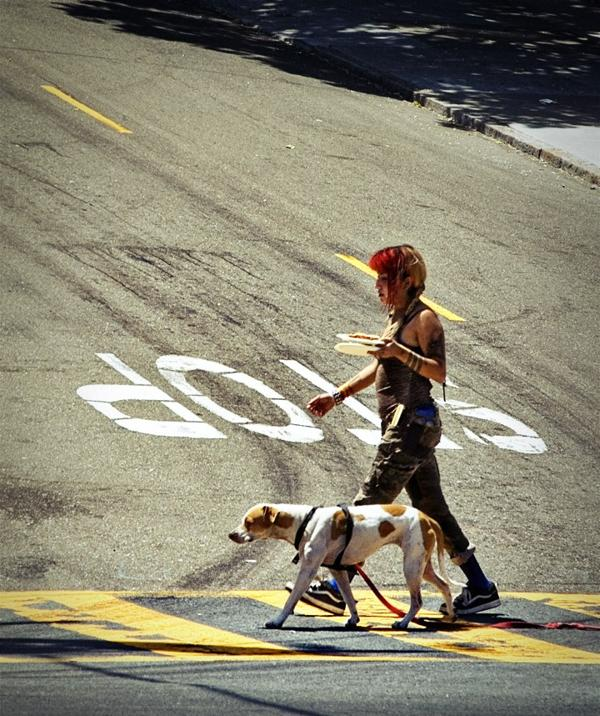person: (309, 248, 500, 616)
